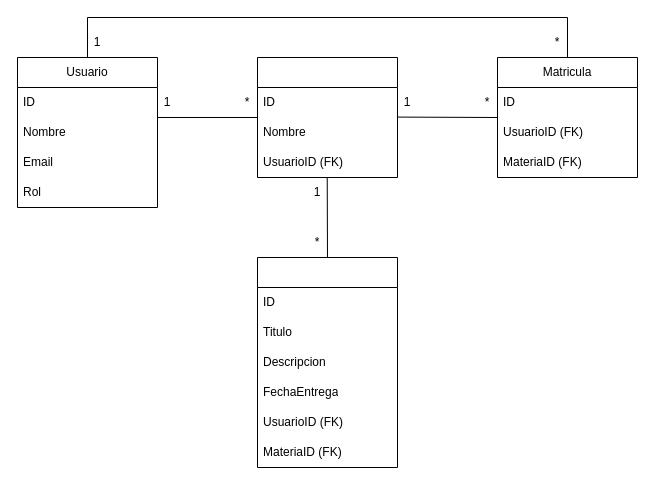
Image size: 655x485. Some labels were removed from this diagram. The shapes that lost their labels are listed below. From the top down, each one's box as (x1, y1, x2, y2) in pixels, then its label:
(256, 56, 398, 178): Materia
(256, 256, 398, 468): Tarea
